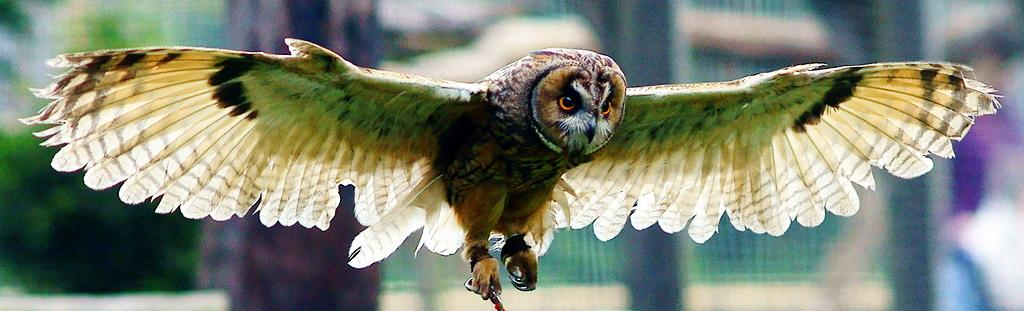Owl: (113, 33, 933, 298)
